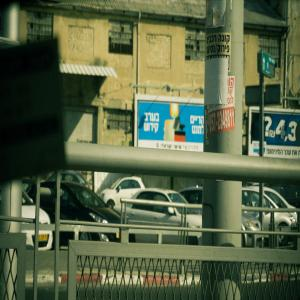Vehicle-registration-plate: (40, 236, 50, 243)
